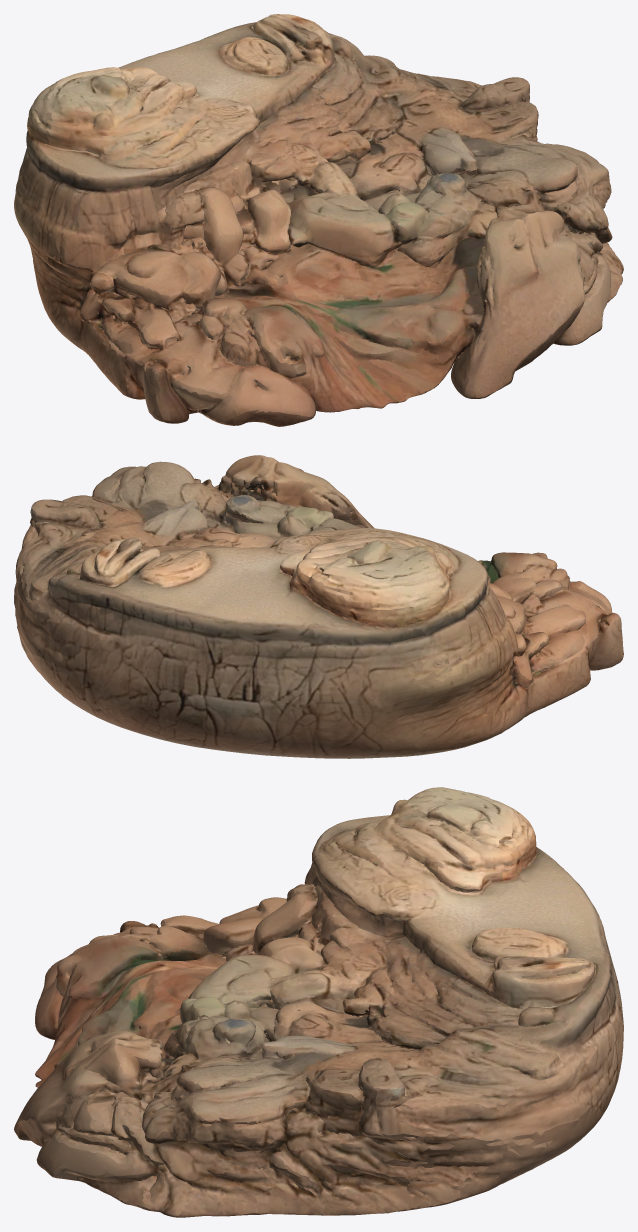
Rendered from layered-slate-v10.glb.
3 renders of one model, top to bottom at view 1: azimuth 30°, elevation 25°; view 2: azimuth 150°, elevation 25°; view 3: azimuth 270°, elevation 25°, orthographic. The views are drawn at different scales.
Parts seen in each view (by area): view 1: geometry_0; view 2: geometry_0; view 3: geometry_0.
Boxes of the visible parts, x1,y1,x2,y2 form: geometry_0: [14, 14, 623, 426]; geometry_0: [14, 455, 623, 758]; geometry_0: [14, 787, 623, 1217].
Size of the model in its own units: 3.5 by 1.46 by 3.44.
Materials: 1 (1 with a texture image).
